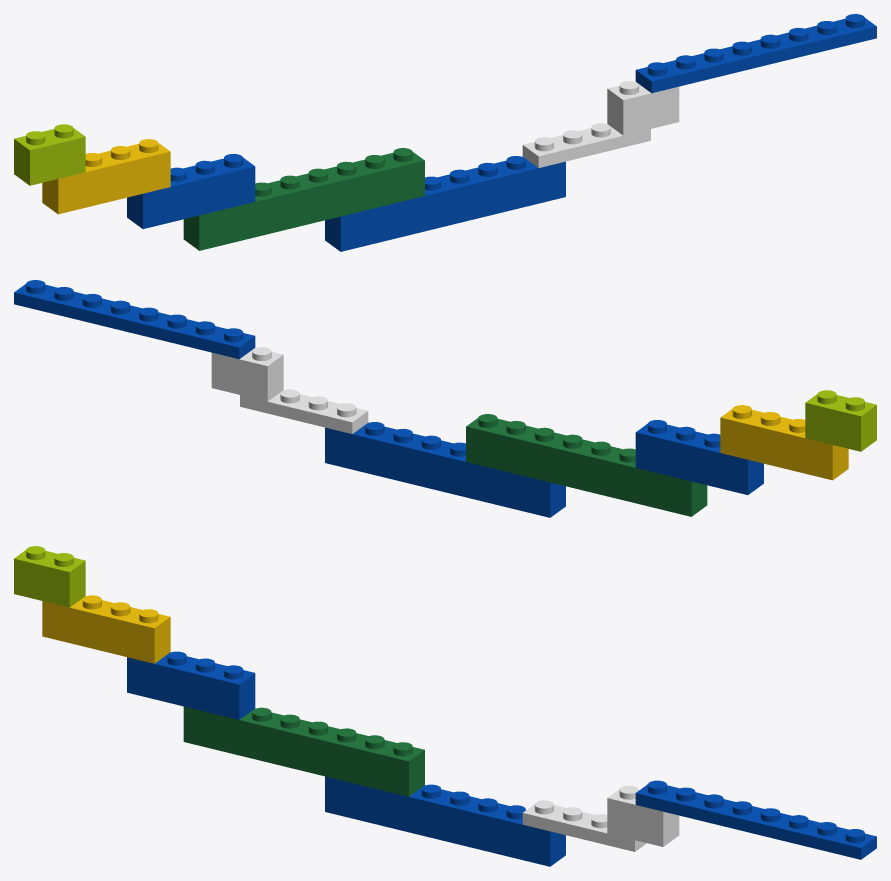
Rendered from best_cantilever.glb.
3 views of the same model, one above another, from view 1: azimuth 30°, elevation 25°; view 2: azimuth 150°, elevation 25°; view 3: azimuth 330°, elevation 25° (orthographic).
Visible parts, largest first — view 1: brick_001_brick_1x8, brick_000_brick_1x8, brick_005_plate_1x8, brick_006_brick_1x4, brick_002_brick_1x4, brick_007_brick_1x2, brick_004_brick_1x2, brick_003_plate_1x4; view 2: brick_001_brick_1x8, brick_000_brick_1x8, brick_005_plate_1x8, brick_006_brick_1x4, brick_002_brick_1x4, brick_007_brick_1x2, brick_004_brick_1x2, brick_003_plate_1x4; view 3: brick_001_brick_1x8, brick_000_brick_1x8, brick_005_plate_1x8, brick_002_brick_1x4, brick_006_brick_1x4, brick_007_brick_1x2, brick_004_brick_1x2, brick_003_plate_1x4.
Boxes of the visible parts, box(x1,y1,x2,y2) form: brick_001_brick_1x8: box(183, 148, 424, 250); brick_000_brick_1x8: box(325, 156, 565, 251); brick_005_plate_1x8: box(635, 14, 876, 93); brick_006_brick_1x4: box(42, 139, 170, 214); brick_002_brick_1x4: box(127, 154, 255, 228); brick_007_brick_1x2: box(14, 124, 85, 185); brick_004_brick_1x2: box(607, 81, 679, 135); brick_003_plate_1x4: box(522, 123, 650, 167); brick_001_brick_1x8: box(466, 414, 707, 516); brick_000_brick_1x8: box(325, 422, 565, 517); brick_005_plate_1x8: box(14, 280, 255, 359); brick_006_brick_1x4: box(720, 405, 848, 480); brick_002_brick_1x4: box(635, 420, 763, 494); brick_007_brick_1x2: box(805, 390, 876, 451); brick_004_brick_1x2: box(211, 347, 283, 401); brick_003_plate_1x4: box(240, 389, 368, 433); brick_001_brick_1x8: box(183, 706, 424, 796); brick_000_brick_1x8: box(325, 776, 565, 866); brick_005_plate_1x8: box(635, 780, 876, 859); brick_002_brick_1x4: box(127, 651, 255, 719); brick_006_brick_1x4: box(42, 595, 170, 663); brick_007_brick_1x2: box(14, 546, 85, 607); brick_004_brick_1x2: box(607, 785, 679, 846); brick_003_plate_1x4: box(522, 800, 646, 851).
Bounding box in the file's own units: 0.2398 × 0.0496 × 0.0078.
